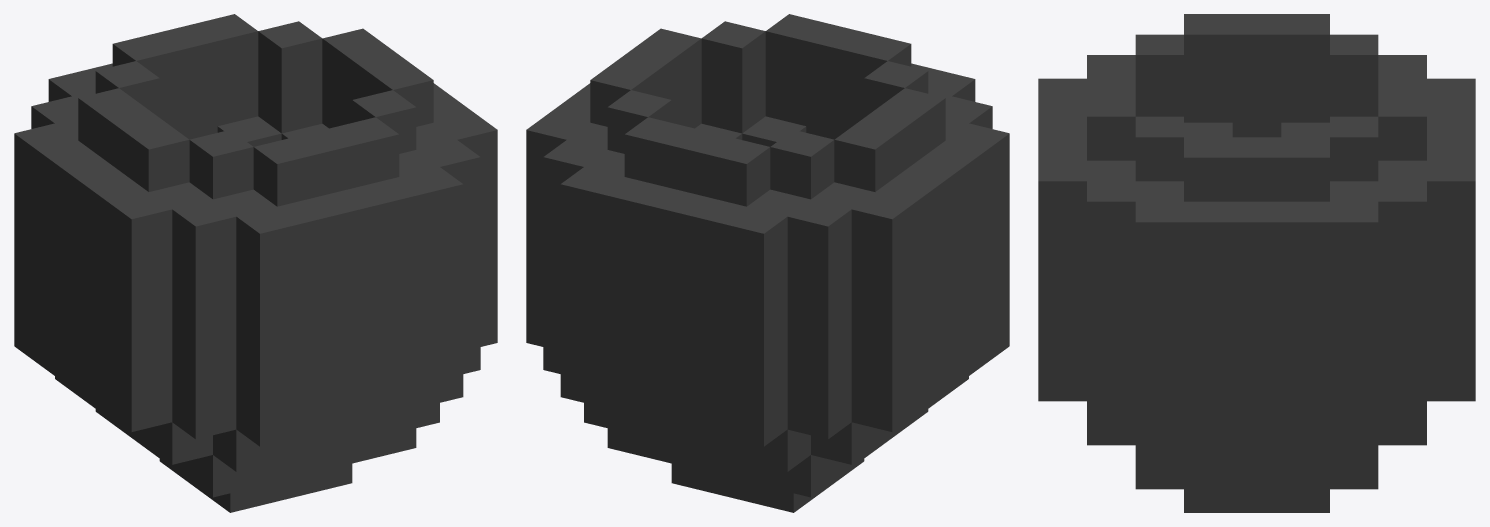
Rendered from cristais-13.obj.
3 renders of one model, left to right at view 1: azimuth 30°, elevation 25°; view 2: azimuth 150°, elevation 25°; view 3: azimuth 270°, elevation 25°, orthographic. The views are drawn at different scales.
Bounding box in the file's own units: 0.9 × 0.9 × 0.9.
1 material, 1 textured.
